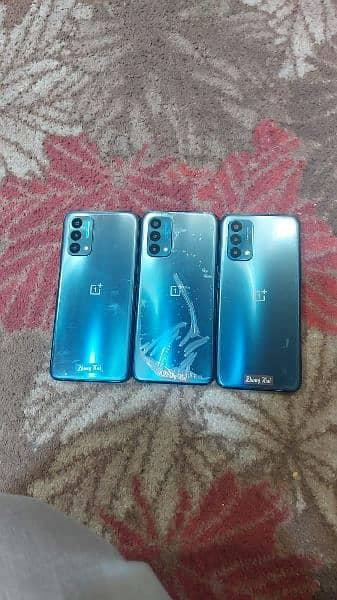Smart Phone: (50, 211, 142, 383)
